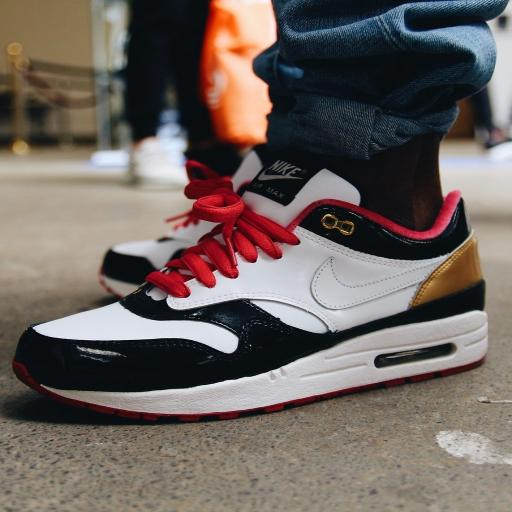shoe: (13, 152, 487, 420), (99, 145, 266, 297)
